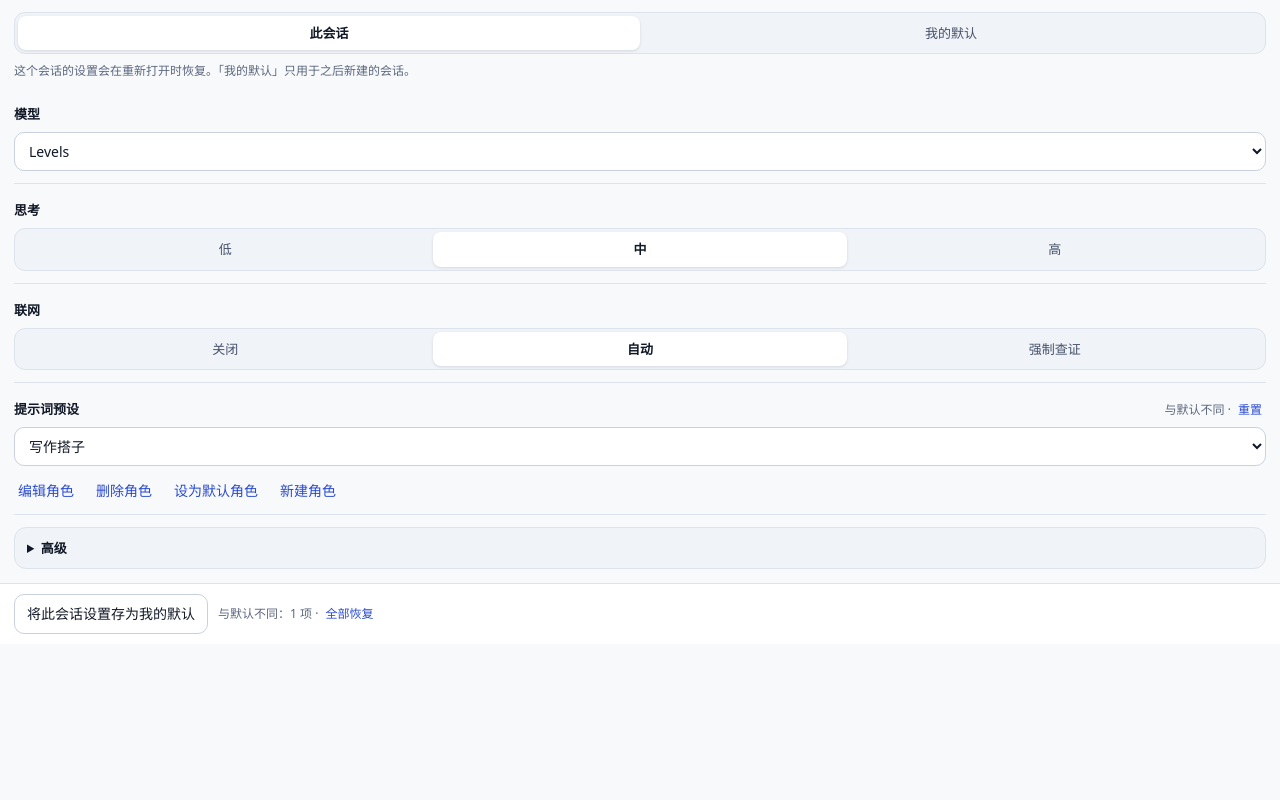
it: SettingsPanel › can move from a role to 自定义 and to a built-in preset, and the list follows
Later steps or results of the test are not shown.
Select "自定义" in the dropdown named "提示词预设": x=640, y=447 14,427 -> 1266,466
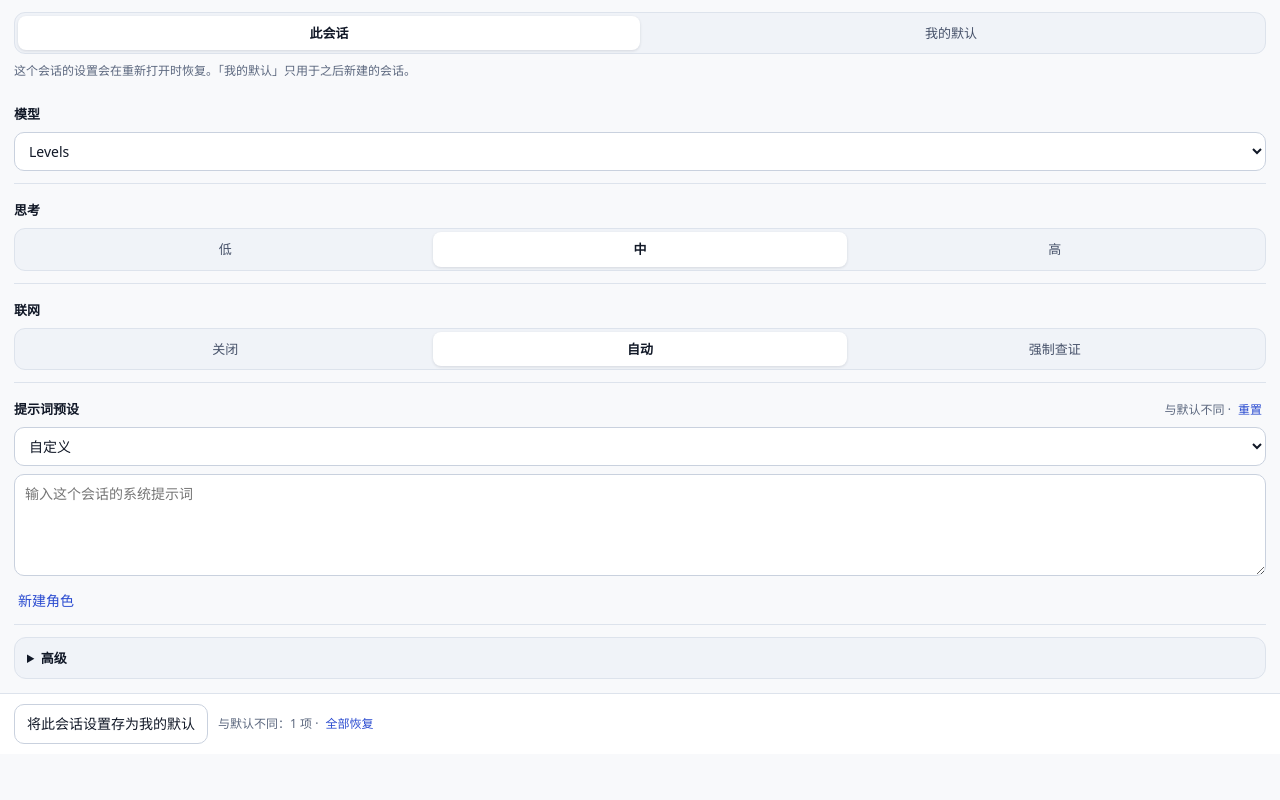
Expected: the text box named "自定义提示词" is empty
In the text box named "自定义提示词": x=640, y=525 14,474 -> 1266,576, type "临时试一试"
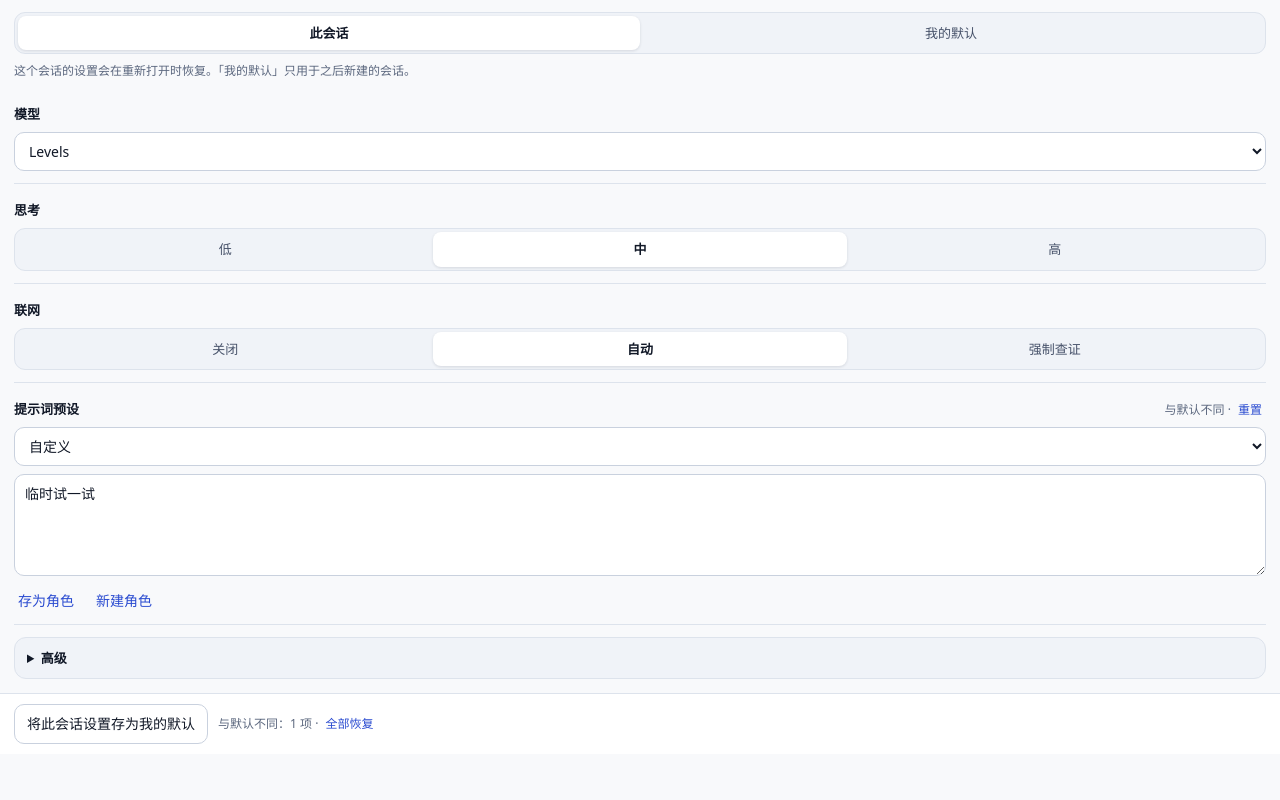
Expected: the button "存为角色" is shown, 14,590 -> 78,612
